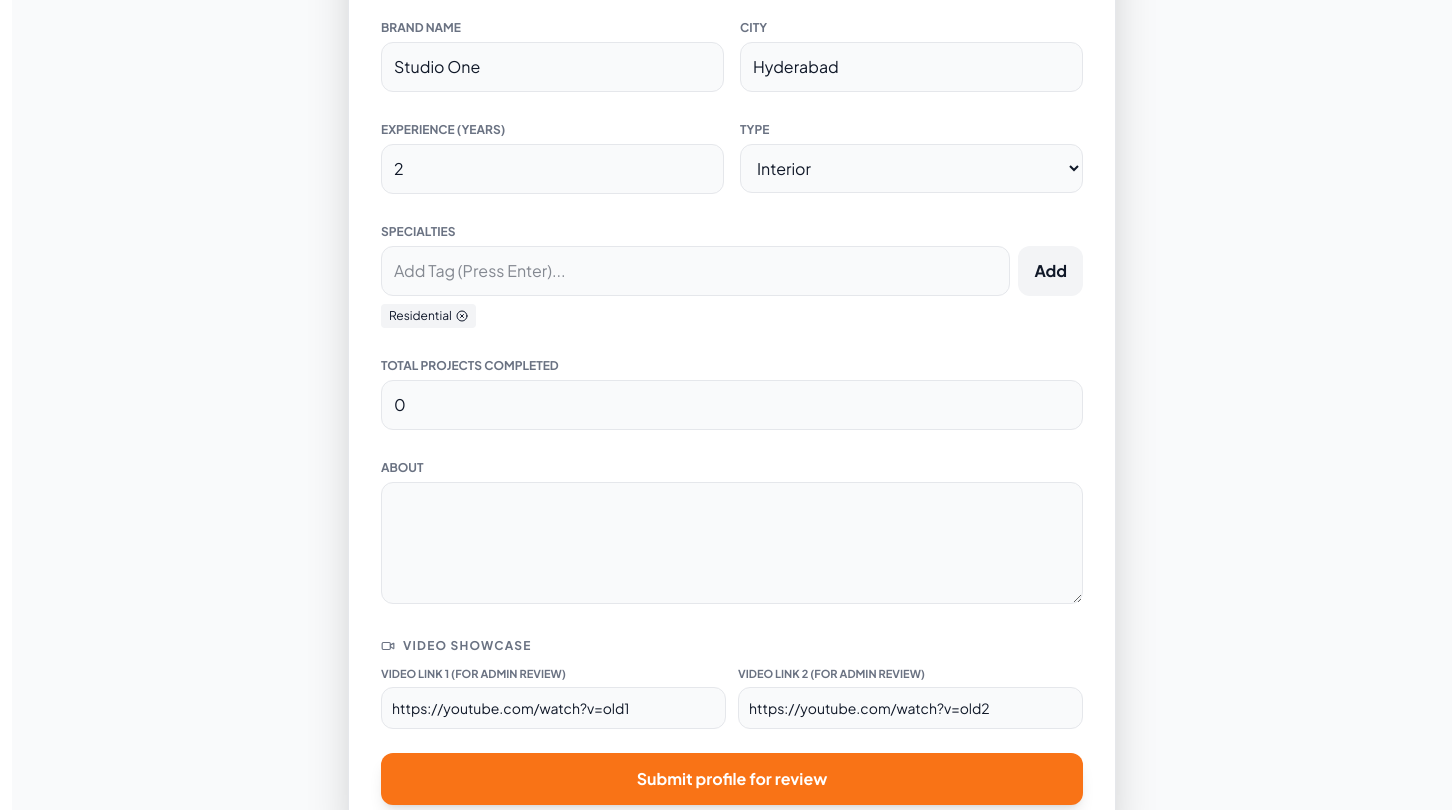
Test case: existing full designer profile editor inside the dashboard › uses the complete existing editor on the standalone completion route and submits the full row
(page scrolled)
Check: the field showing "Studio One" below "Brand Name" is shown, box [381,42,724,92]
Check: the field showing "Hyderabad" below "City" is shown, box [740,42,1083,92]
Replace the text in the number field showing "0" below "Total Projects Completed" with "1" at (732, 405), box [381,380,1083,430]
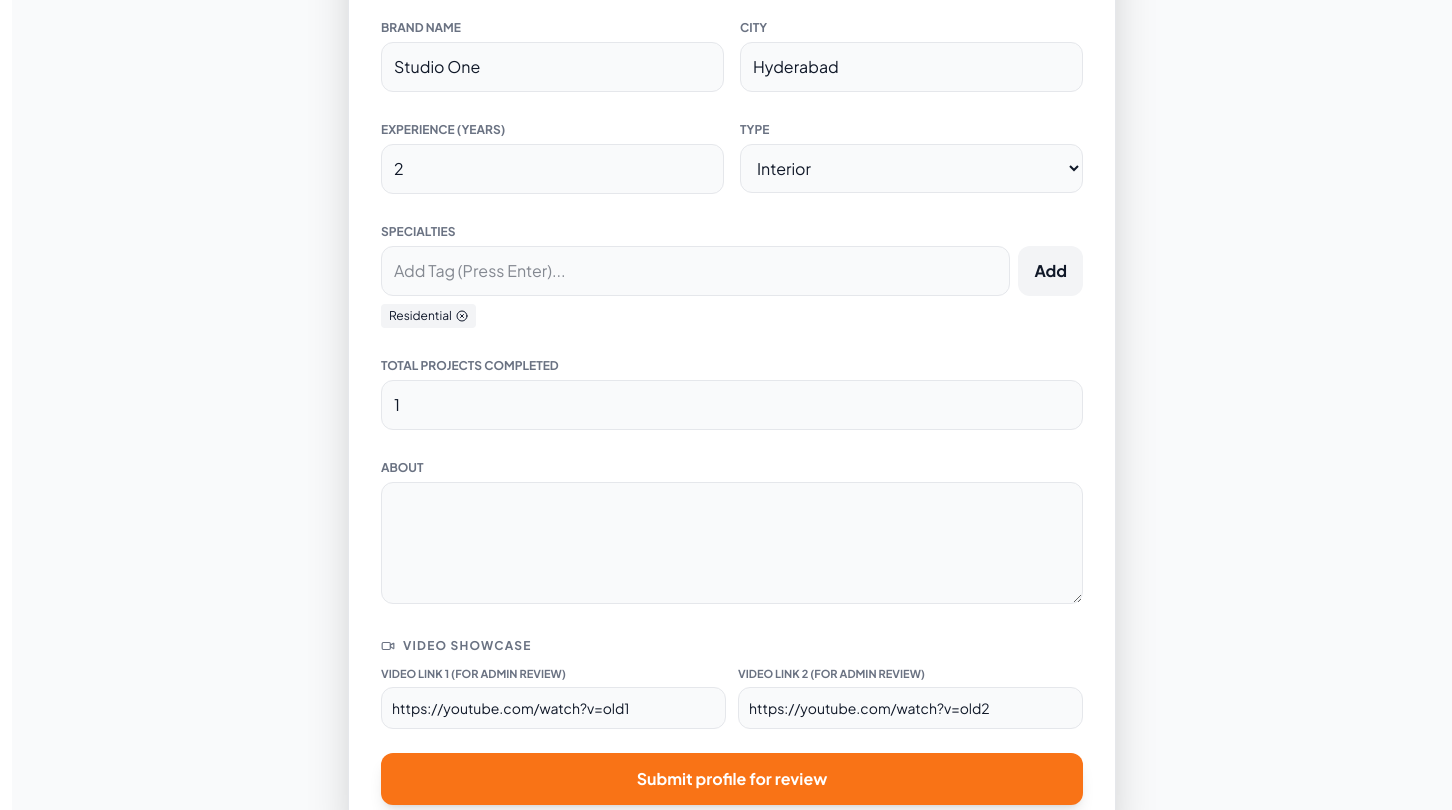
Type "Professional studio profile" into the text box labelled "About" at (732, 543), box [381,482,1083,604]
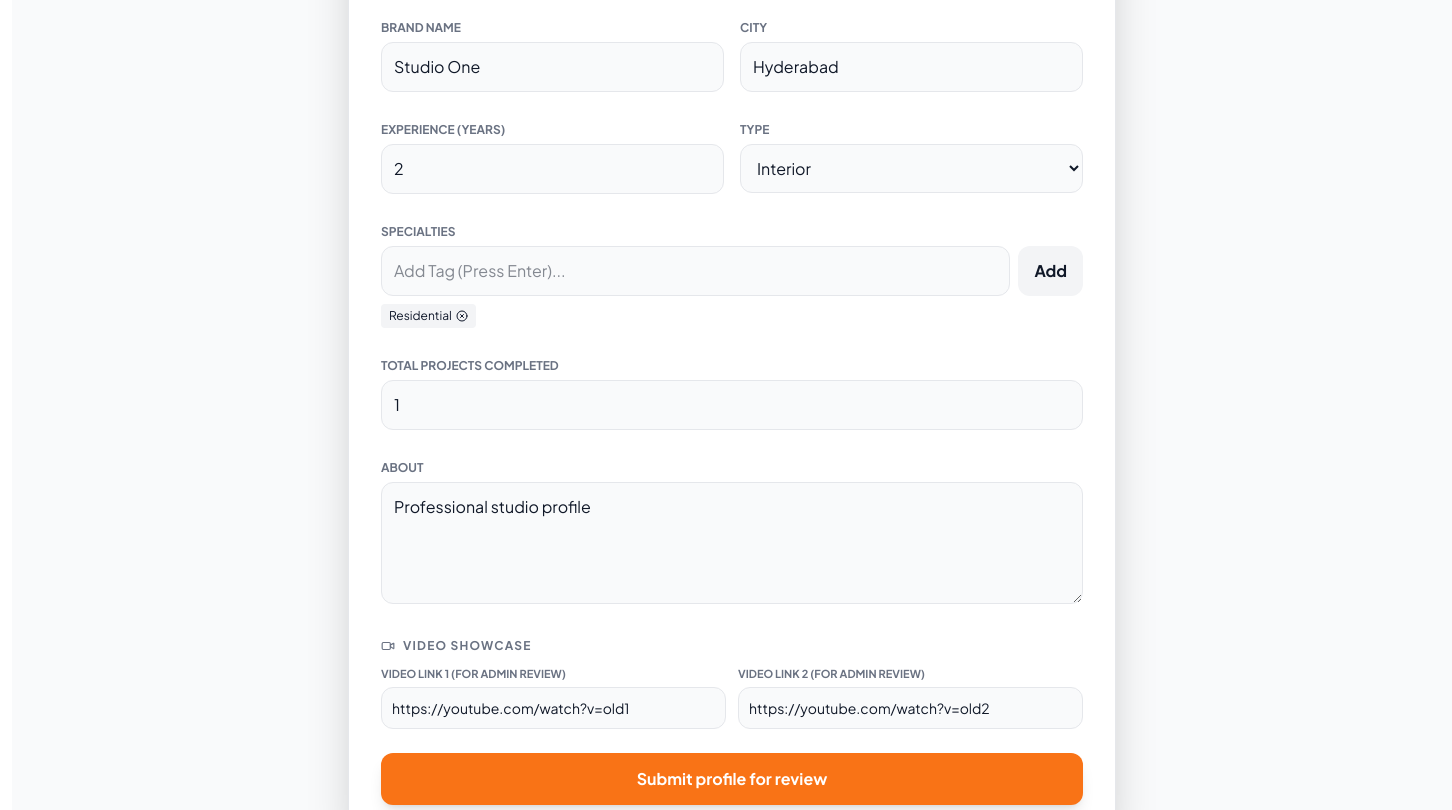
Click the button "Submit profile for review" at (732, 778), box [381,752,1083,804]
(page scrolled)
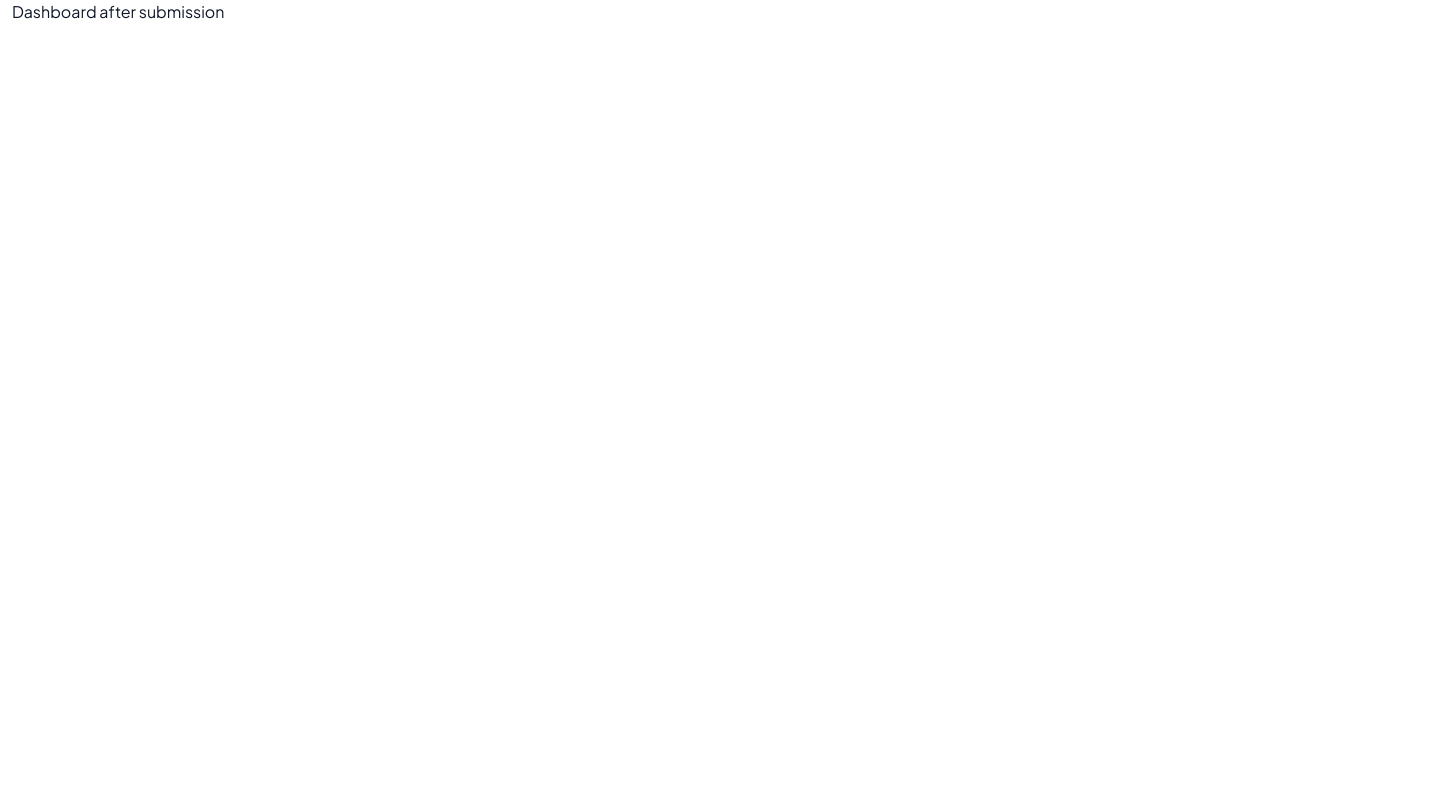
Check: the text "Dashboard after submission" is shown, box [12,1,224,22]
